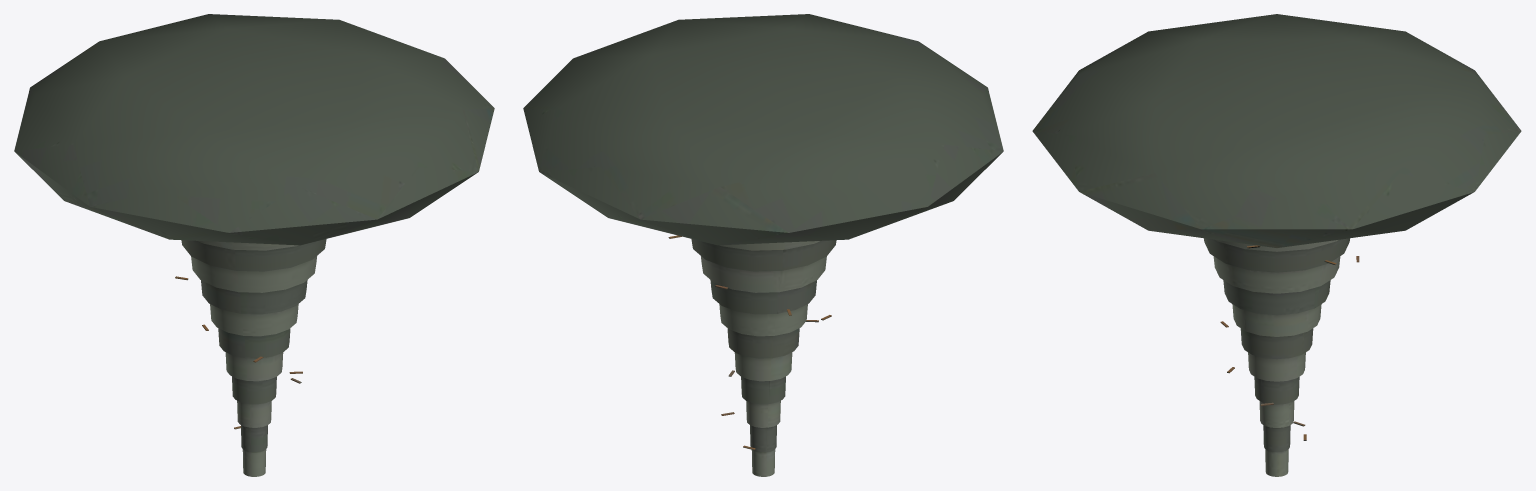
File: tornado_embudo.glb
The picture shows the model from 3 angles, left to right: view 1: azimuth 30°, elevation 25°; view 2: azimuth 150°, elevation 25°; view 3: azimuth 270°, elevation 25°; orthographic projection.
Parts seen in each view (by area): view 1: tornado_embudo; view 2: tornado_embudo; view 3: tornado_embudo.
Boxes of the visible parts, x1,y1,x2,y2 form: tornado_embudo: [14, 14, 494, 476]; tornado_embudo: [523, 14, 1003, 476]; tornado_embudo: [1032, 14, 1521, 476].
Bounding box in the file's own units: 49.46 × 46.5 × 52.
1 material, 1 textured.
